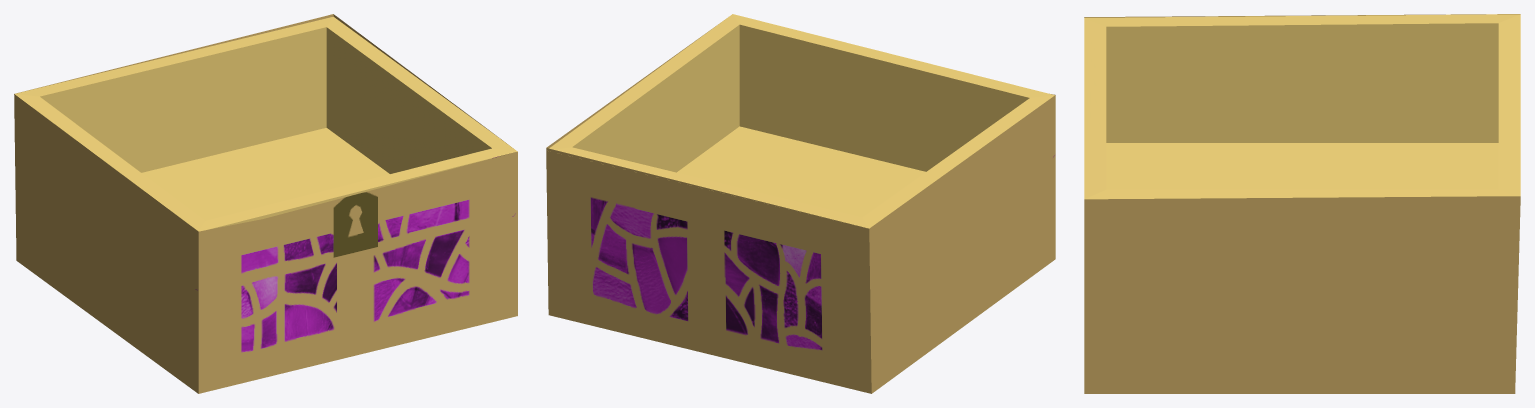
Rendered from chestBottom4.glb.
The picture shows the model from 3 angles, left to right: view 1: azimuth 30°, elevation 25°; view 2: azimuth 150°, elevation 25°; view 3: azimuth 270°, elevation 25°; orthographic projection. The views are drawn at different scales.
Parts seen in each view (by area): view 1: Cube.003; view 2: Cube.003; view 3: Cube.003.
Part boxes in pixels (x1,y1,x2,y2): Cube.003: (14, 14, 517, 393); Cube.003: (546, 14, 1055, 393); Cube.003: (1084, 14, 1520, 393).
Bounding box in the file's own units: 1 × 0.5 × 1.
Materials: 3 (1 with a texture image).
